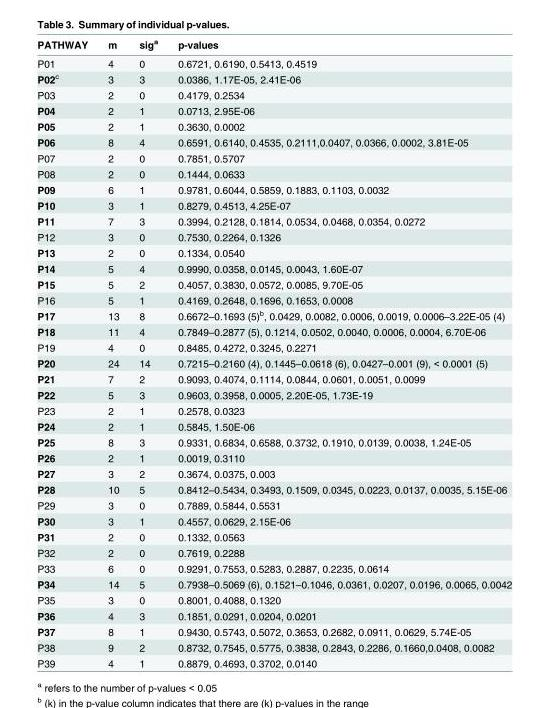table: (36, 36, 511, 668)
table column: (167, 36, 511, 668), (36, 36, 97, 668), (128, 36, 167, 668), (97, 36, 128, 668)
table column header: (36, 36, 511, 53)
table row: (36, 36, 511, 53), (36, 53, 511, 70), (36, 70, 511, 86), (36, 86, 511, 102), (36, 102, 511, 118), (36, 118, 511, 134), (36, 149, 511, 165), (36, 165, 511, 181), (36, 181, 511, 197), (36, 212, 511, 228), (36, 228, 511, 244), (36, 244, 511, 260), (36, 260, 511, 276), (36, 291, 511, 307), (36, 307, 511, 323), (36, 323, 511, 339), (36, 354, 511, 370), (36, 370, 511, 386), (36, 386, 511, 402), (36, 402, 511, 418), (36, 433, 511, 449), (36, 449, 511, 465), (36, 465, 511, 481), (36, 481, 511, 497), (36, 512, 511, 528), (36, 528, 511, 544), (36, 544, 511, 560), (36, 575, 511, 591), (36, 591, 511, 607), (36, 607, 511, 623), (36, 623, 511, 639), (36, 639, 511, 655), (36, 134, 511, 149), (36, 197, 511, 212), (36, 276, 511, 291), (36, 339, 511, 354), (36, 418, 511, 433), (36, 497, 511, 512), (36, 560, 511, 575), (36, 655, 511, 668)
